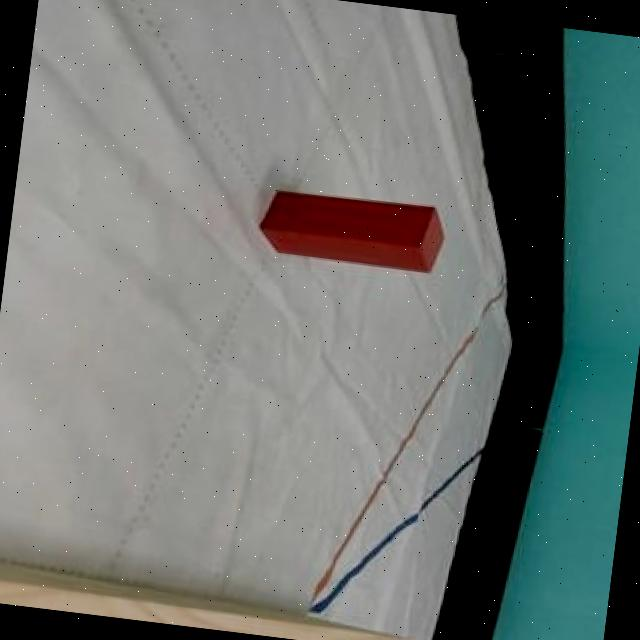redbox: (257, 186, 450, 276)
